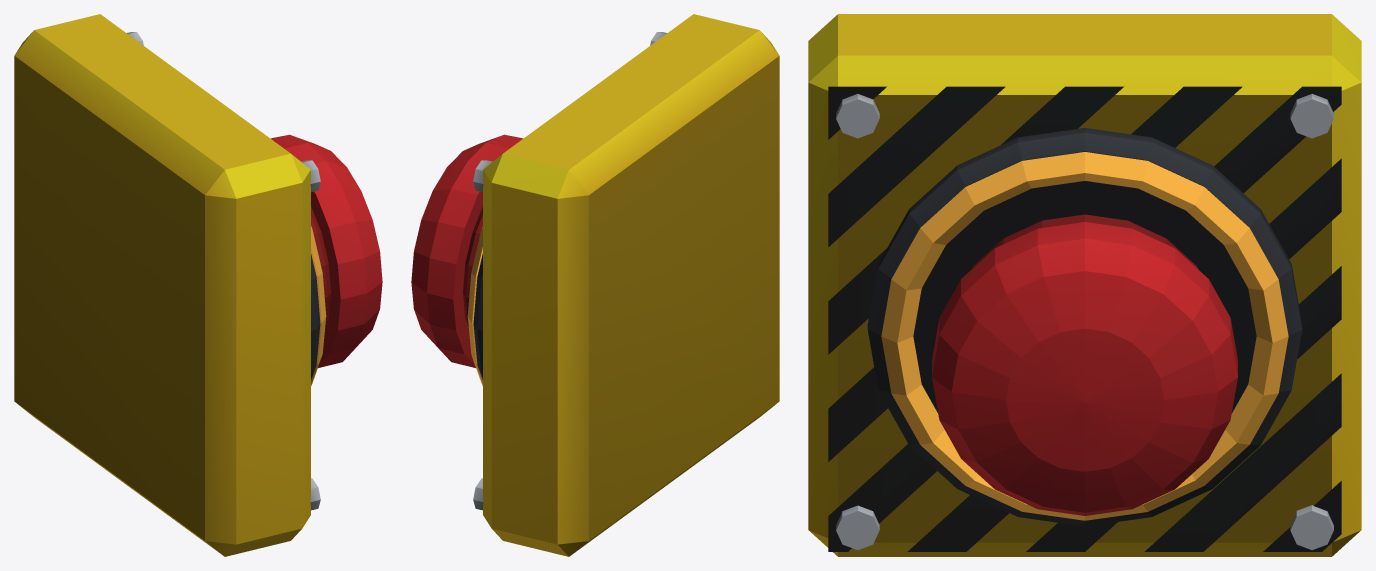
The model's file is switch_button.glb.
The picture shows the model from 3 angles, left to right: view 1: azimuth 30°, elevation 25°; view 2: azimuth 150°, elevation 25°; view 3: azimuth 270°, elevation 25°; orthographic projection. The views are drawn at different scales.
Visible parts, largest first — view 1: Body, Button, Ring_glow; view 2: Body, Button, Ring_glow; view 3: Body, Button, Ring_glow.
Boxes of the visible parts, bbox=[...] form: Body: bbox=[14, 14, 320, 556]; Button: bbox=[270, 134, 382, 367]; Ring_glow: bbox=[311, 226, 326, 385]; Body: bbox=[473, 14, 779, 556]; Button: bbox=[411, 134, 523, 367]; Ring_glow: bbox=[467, 226, 482, 385]; Body: bbox=[808, 14, 1361, 556]; Button: bbox=[932, 214, 1237, 515]; Ring_glow: bbox=[881, 152, 1288, 520].
Bounding box in the file's own units: 0.36 × 0.56 × 0.56.
